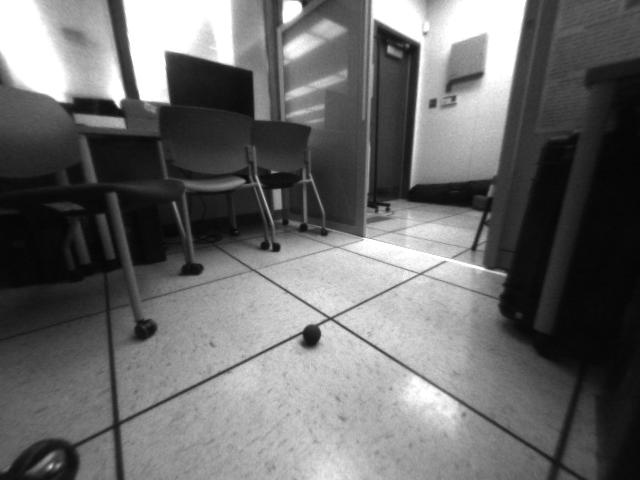dogtoy: (295, 317, 329, 353)
